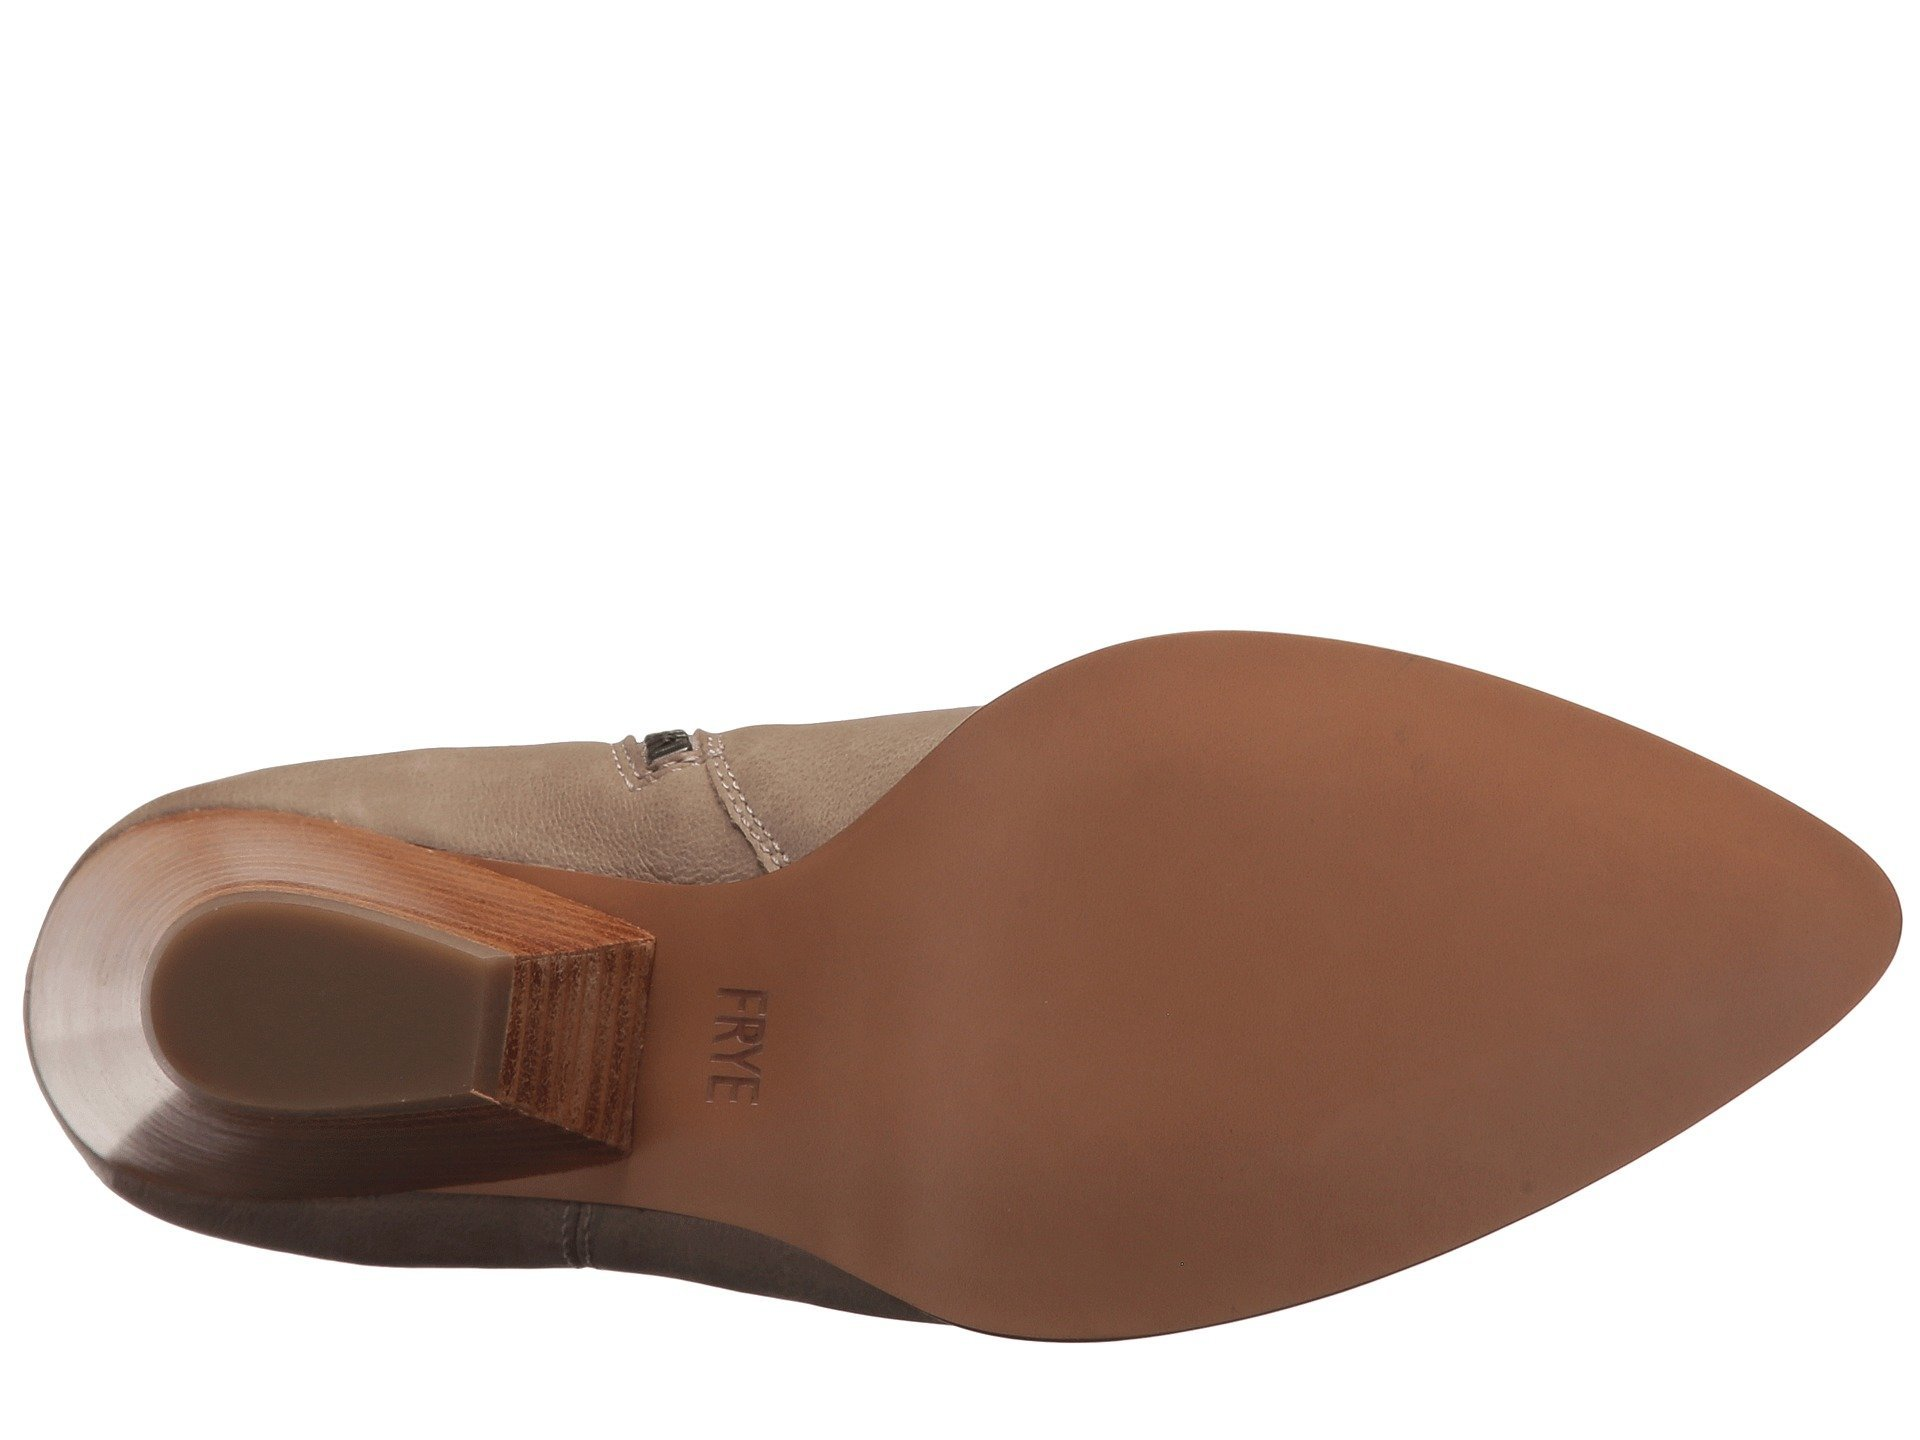text: (670, 936, 795, 1165)
